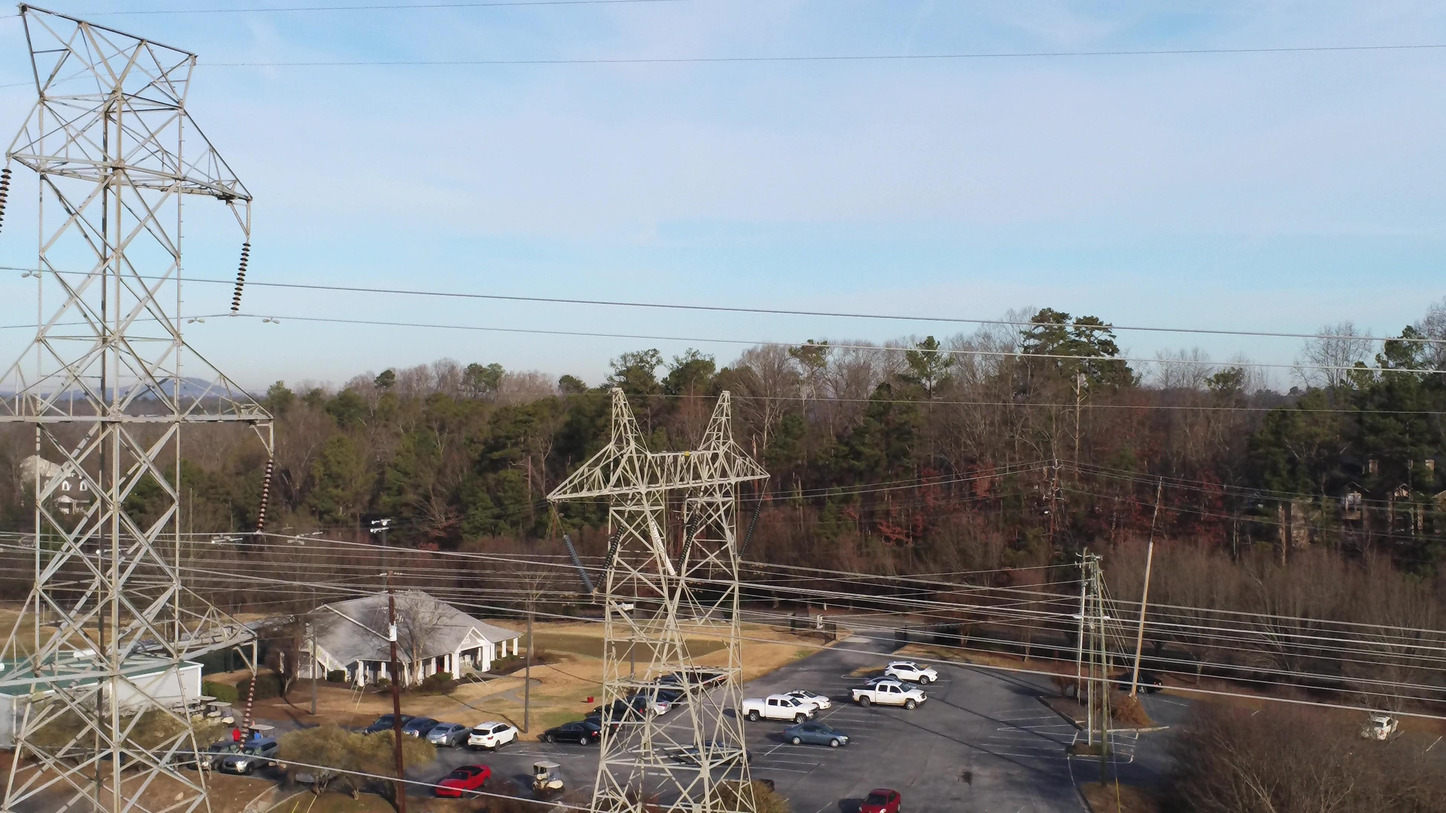power_tower: (2, 5, 275, 813), (546, 387, 774, 812)
